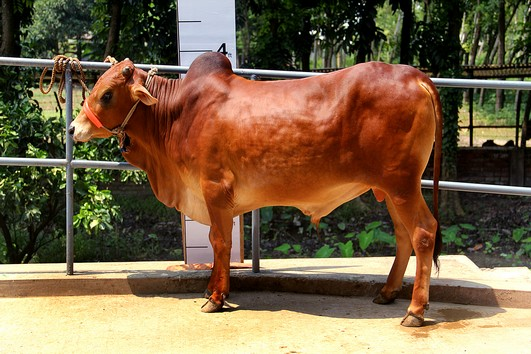cow: (63, 39, 443, 332)
